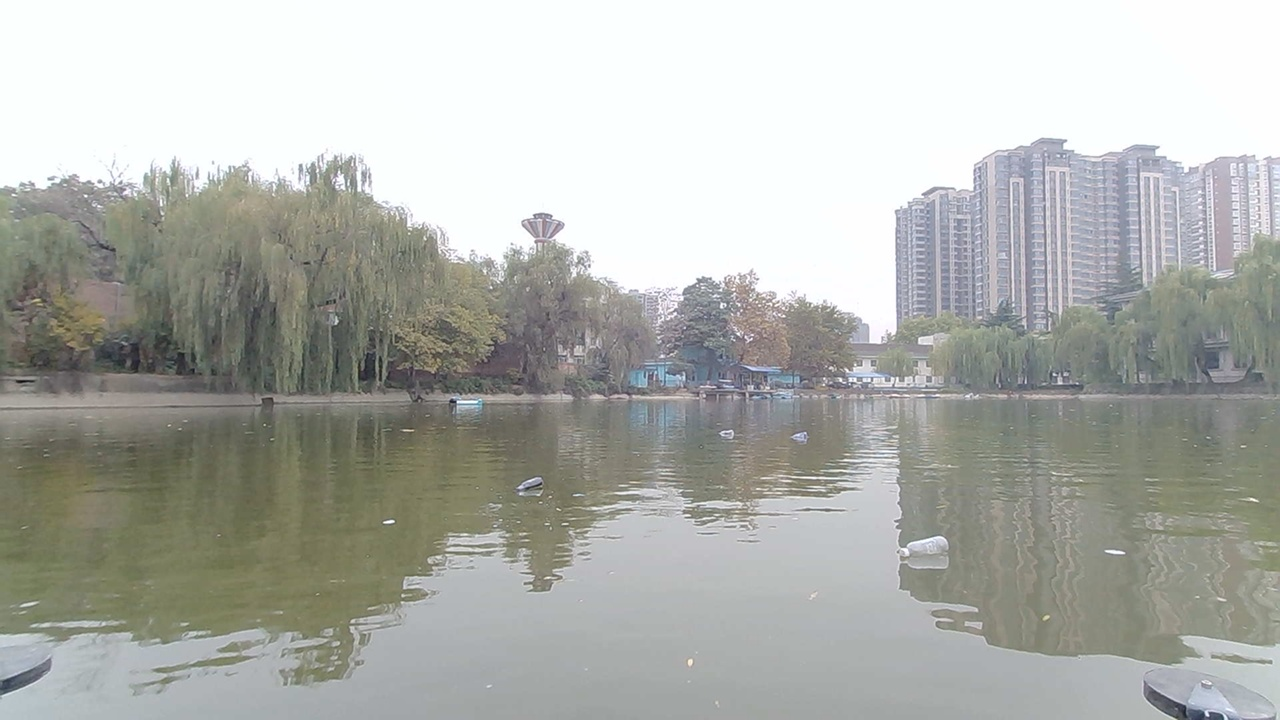bottle: (879, 523, 957, 578), (517, 475, 547, 497), (786, 428, 819, 445), (716, 422, 738, 441)
